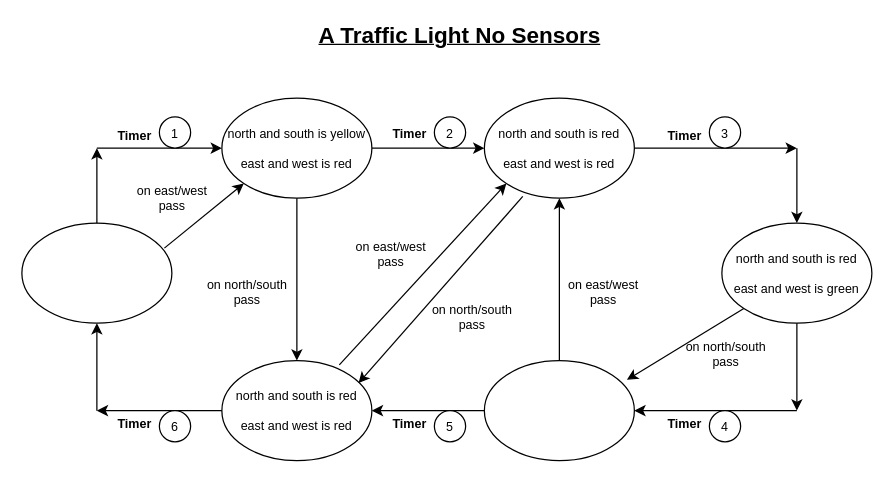
Image size: 894x483. Some labels were removed from this diagram. Each missing label, with the centre of its shape:
north and south is green east and west is red: the point at 96,272
north and south is red east and west is yellow: the point at 558,410
